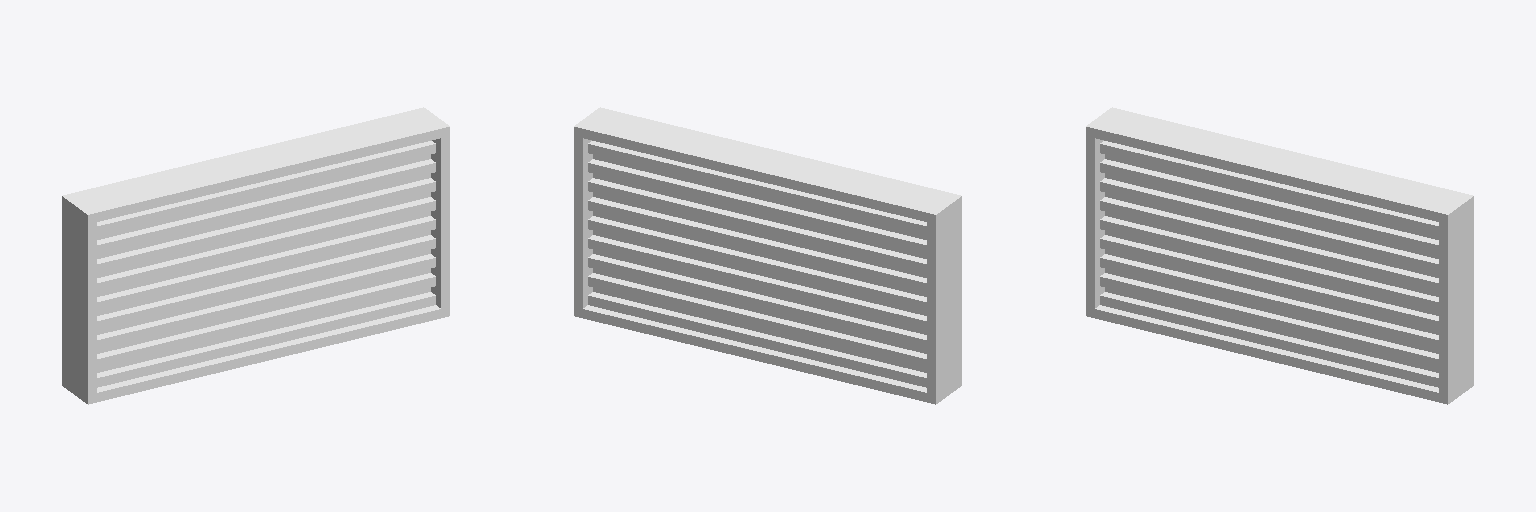
The model's file is syatta-.obj.
3 renders of one model, left to right at view 1: azimuth 30°, elevation 25°; view 2: azimuth 150°, elevation 25°; view 3: azimuth 330°, elevation 25°, orthographic.
Parts seen in each view (by area): view 1: object 1; view 2: object 1; view 3: object 1.
Part boxes in pixels (x1,y1,x2,y2): object 1: (62, 107, 449, 404); object 1: (574, 107, 961, 404); object 1: (1086, 107, 1473, 404).
Bounding box in the file's own units: 4 × 2 × 0.5.